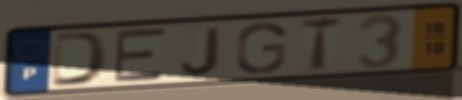3: (356, 9, 408, 73)
D: (48, 29, 112, 89)
E: (112, 26, 168, 85)
G: (233, 21, 289, 76)
J: (178, 24, 225, 78)
T: (299, 14, 345, 74)
